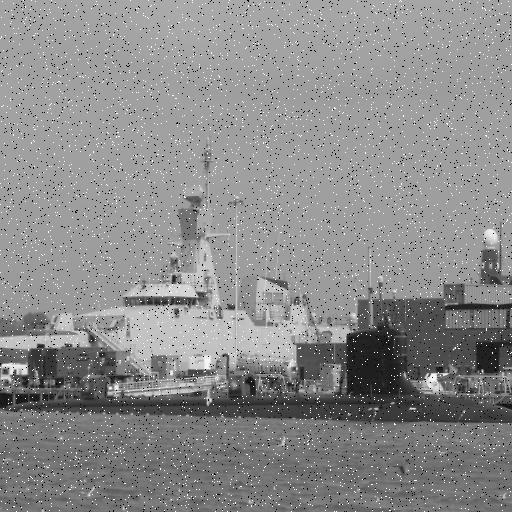submarine: (11, 313, 512, 413)
